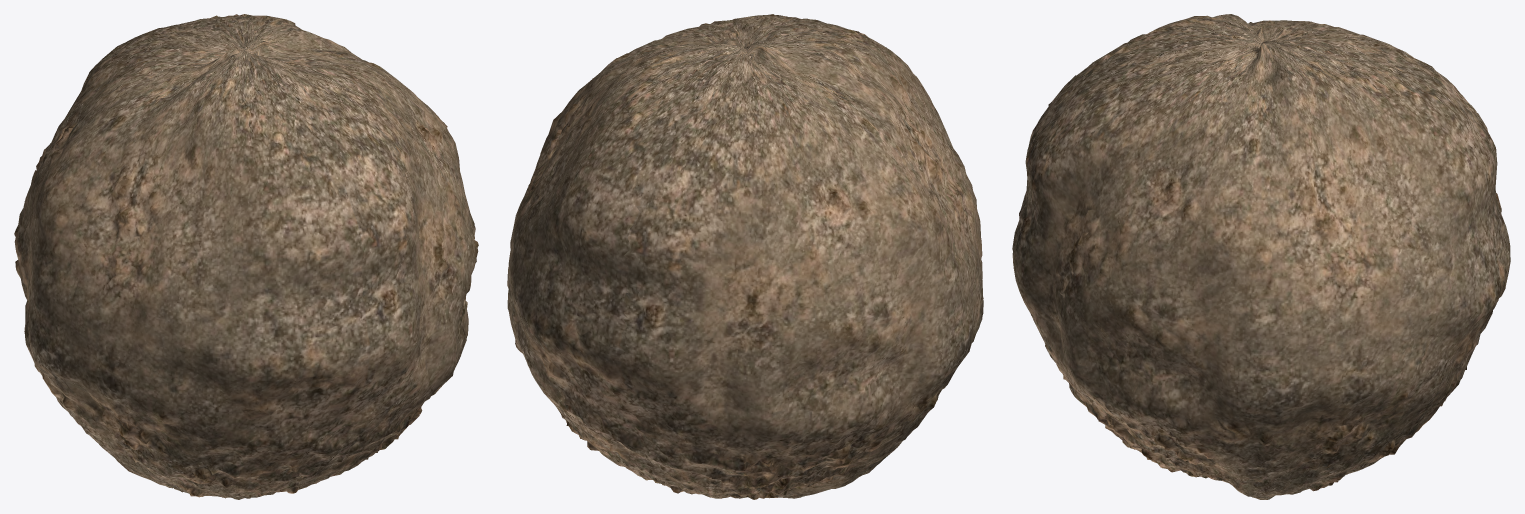
File: rock.glb
3 renders of one model, left to right at view 1: azimuth 30°, elevation 25°; view 2: azimuth 150°, elevation 25°; view 3: azimuth 270°, elevation 25°, orthographic.
Visible parts, largest first — view 1: sphere_gltf; view 2: sphere_gltf; view 3: sphere_gltf.
Part boxes in pixels (box(x1,y1,x2,y2)): sphere_gltf: box(14, 14, 478, 499); sphere_gltf: box(507, 14, 983, 499); sphere_gltf: box(1012, 14, 1510, 499).
Size of the model in its own units: 1.51 by 1.54 by 1.55.
Materials: 1 (1 with a texture image).
